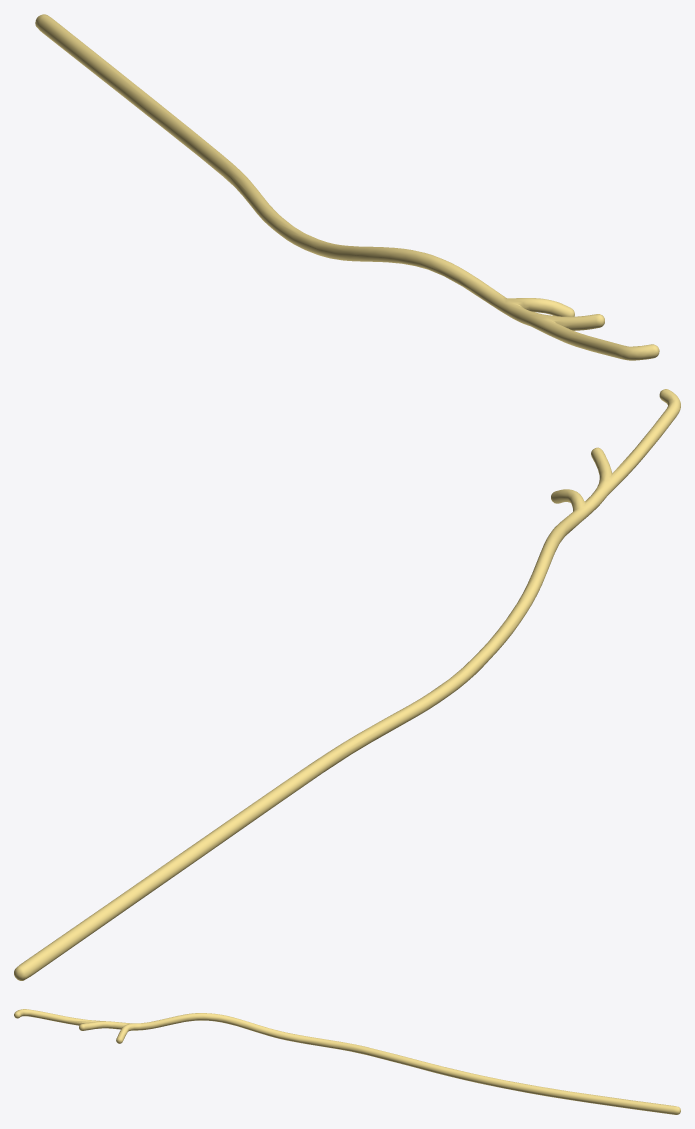
Rendered from fma50881_fj1381.glb.
3 views of the same model, one above another, from view 1: azimuth 30°, elevation 25°; view 2: azimuth 150°, elevation 25°; view 3: azimuth 270°, elevation 25° (orthographic). The views are drawn at different scales.
Visible parts, largest first — view 1: FMA50881_FJ1381; view 2: FMA50881_FJ1381; view 3: FMA50881_FJ1381.
Boxes of the visible parts, <box> form: FMA50881_FJ1381: <box>35,14,659,360</box>; FMA50881_FJ1381: <box>14,389,680,980</box>; FMA50881_FJ1381: <box>14,1009,680,1114</box>.
Bounding box in the file's own units: 0.00913 × 0.0118 × 0.0791.
